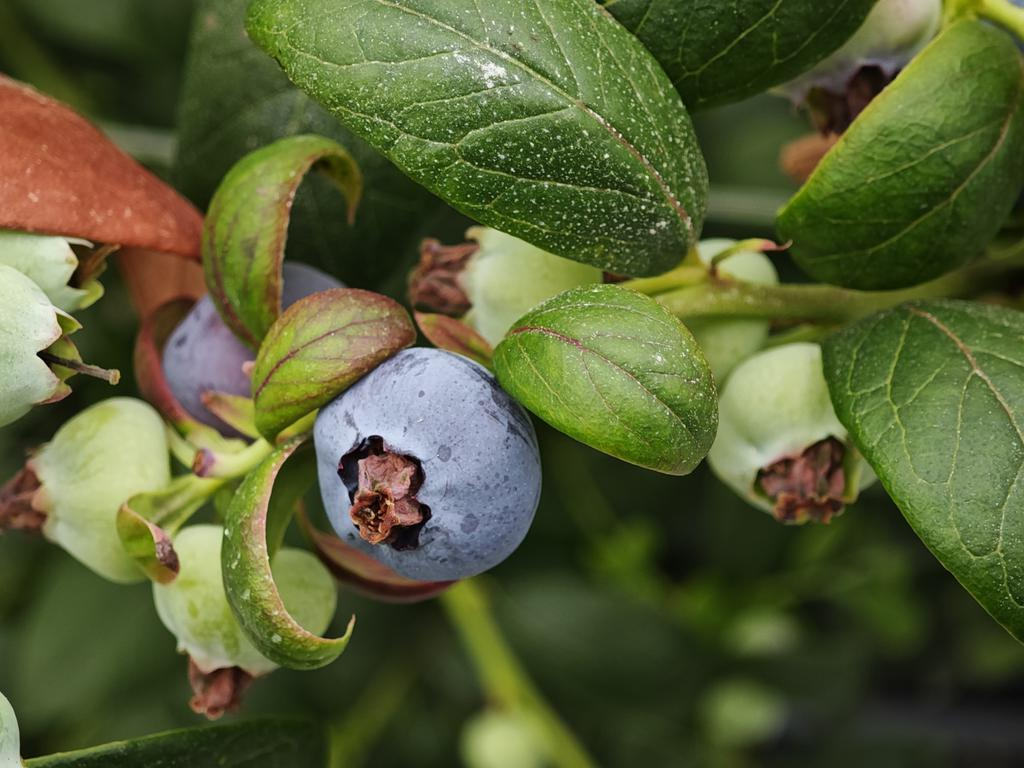RipeBlueBerry: (318, 354, 539, 583)
